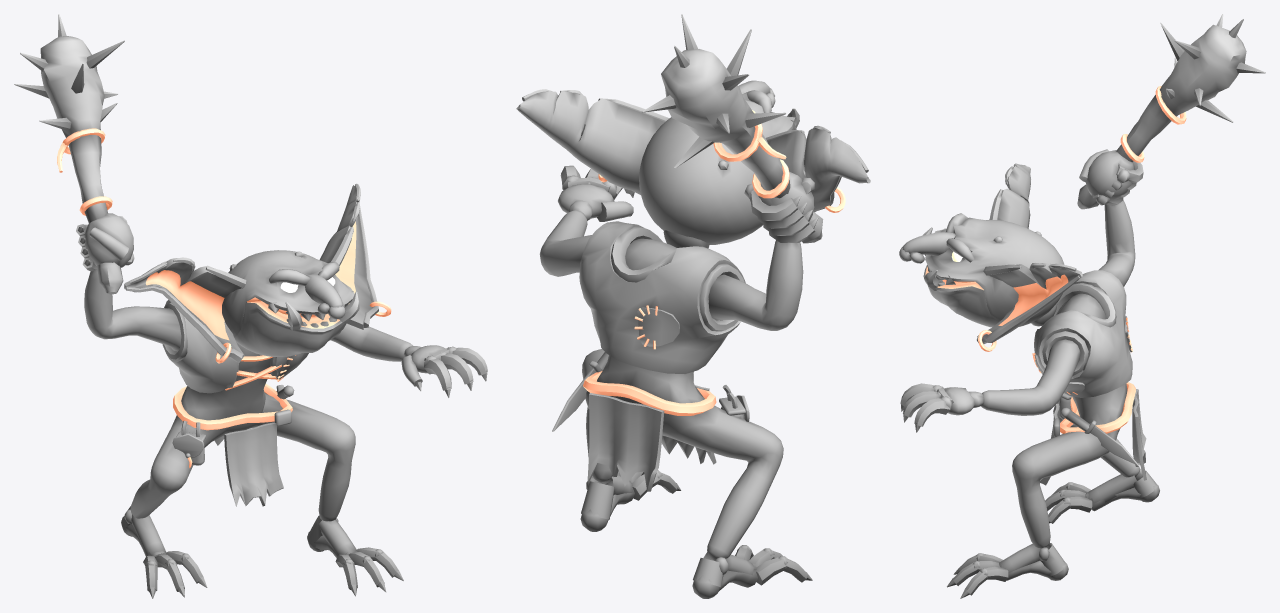
File: goblin.glb
3 views of the same model, side by side, from view 1: azimuth 30°, elevation 25°; view 2: azimuth 150°, elevation 25°; view 3: azimuth 270°, elevation 25° (orthographic). The views are drawn at different scales.
Parts seen in each view (by area): view 1: Goblin; view 2: Goblin; view 3: Goblin.
Part boxes in pixels (left/top/right/bottom): Goblin: left=14, top=14, right=487, bottom=598; Goblin: left=516, top=14, right=870, bottom=598; Goblin: left=899, top=14, right=1265, bottom=598.
Bounding box in the file's own units: 0.469 × 0.7241 × 0.4937.
